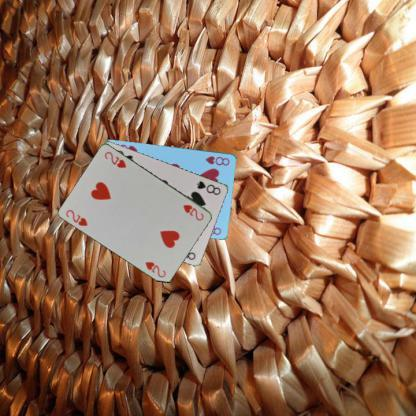2h: (64, 207, 89, 227), (181, 202, 205, 222)
8h: (204, 153, 231, 167)
8s: (194, 178, 222, 196)
